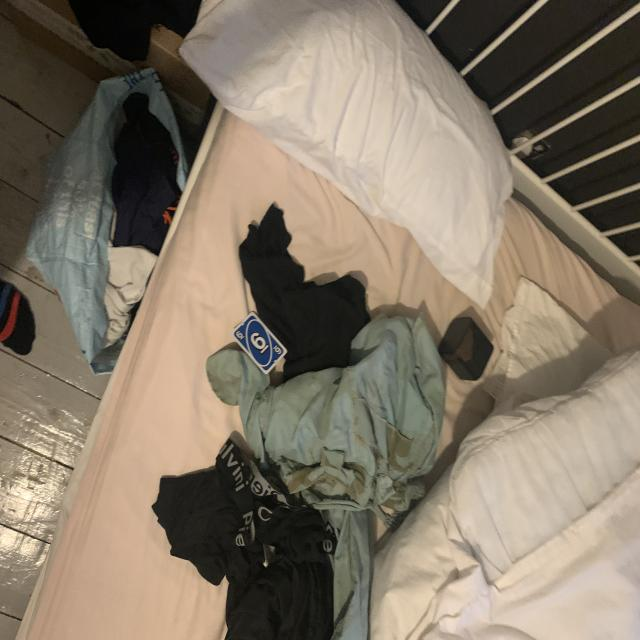lblue-6: (234, 329, 246, 341)
